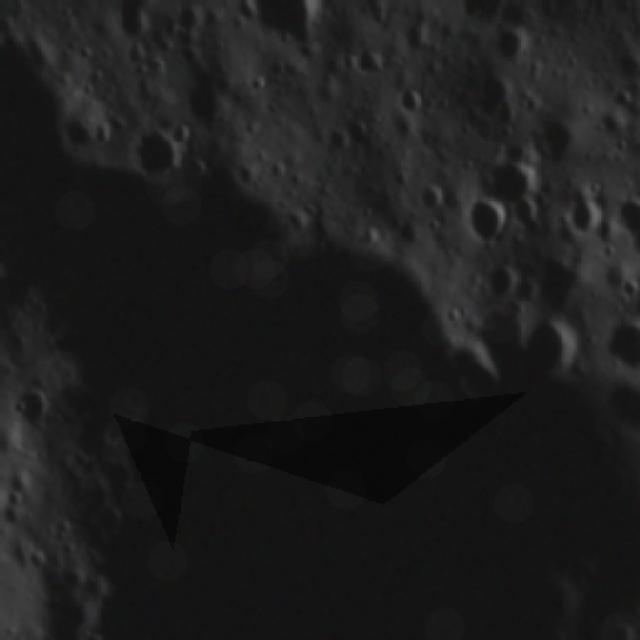crater: (482, 148, 546, 214), (243, 1, 322, 54), (520, 317, 583, 380), (128, 119, 184, 181), (178, 75, 236, 131), (530, 112, 585, 170), (458, 193, 510, 244), (65, 103, 113, 154), (468, 263, 520, 308), (5, 384, 50, 433), (562, 196, 604, 238), (413, 177, 450, 217), (115, 5, 153, 43), (494, 27, 532, 64), (390, 81, 428, 117), (347, 46, 384, 77)
